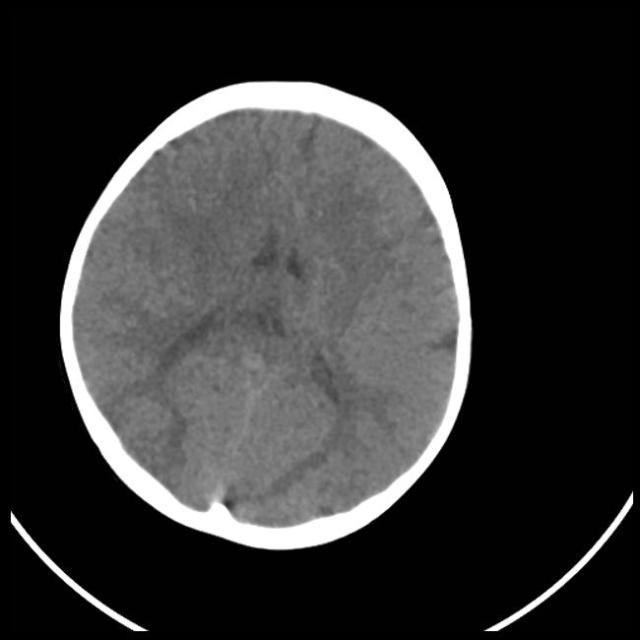lesion: (60, 84, 475, 544)
